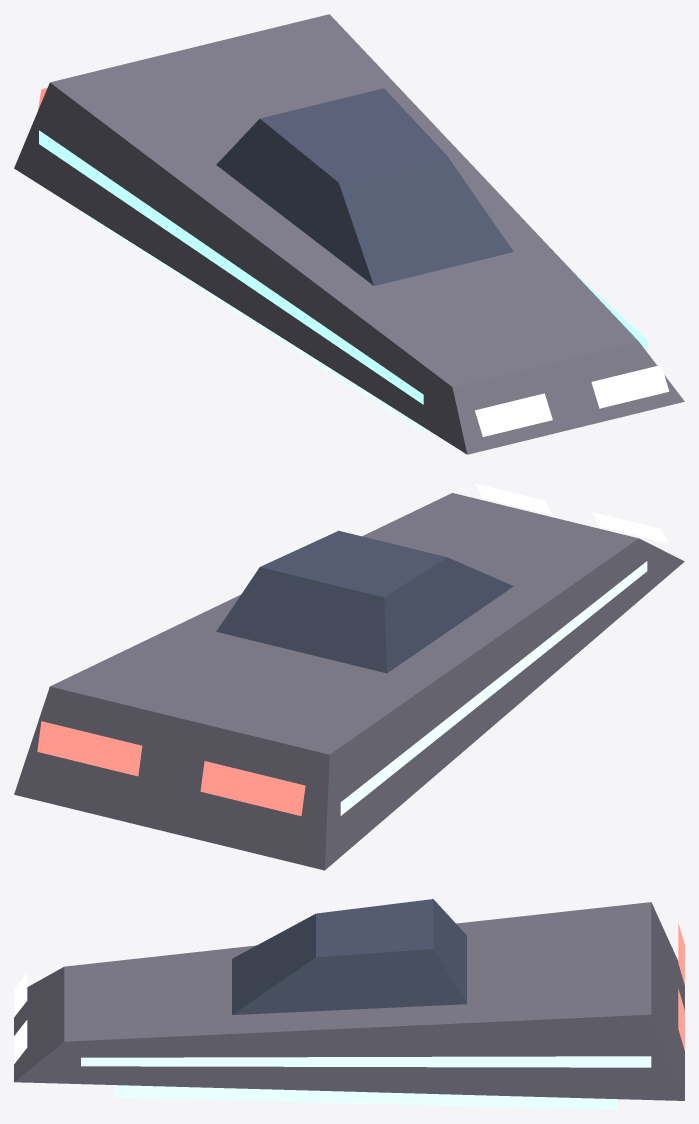
The model's file is hover_car.glb.
The picture shows the model from 3 angles, top to bottom: view 1: azimuth 30°, elevation 25°; view 2: azimuth 150°, elevation 25°; view 3: azimuth 270°, elevation 25°; orthographic projection. The views are drawn at different scales.
Parts seen in each view (by area): view 1: hover_car; view 2: hover_car; view 3: hover_car.
Boxes of the visible parts, bbox=[...] form: hover_car: bbox=[14, 14, 684, 454]; hover_car: bbox=[14, 483, 684, 870]; hover_car: bbox=[14, 899, 684, 1109].
Bounding box in the file's own units: 1.5 × 0.76 × 3.4.
